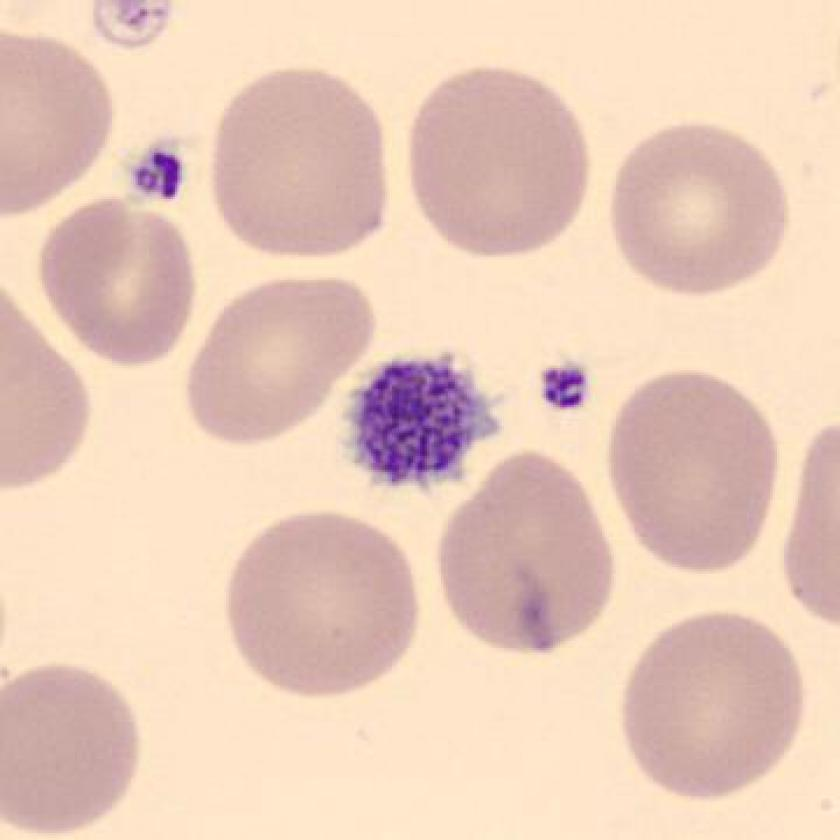platelets: (339, 350, 505, 494), (125, 135, 204, 214), (535, 357, 601, 429), (87, 1, 176, 54)
